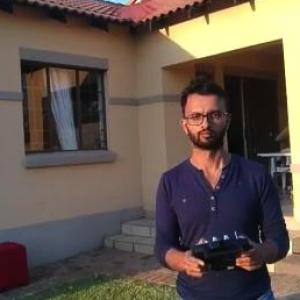follow: (152, 71, 296, 299)
